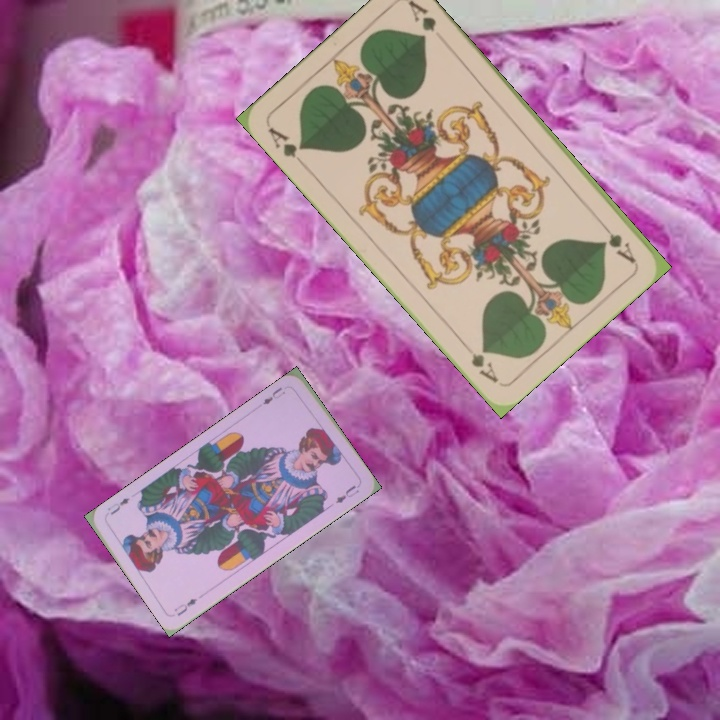EU: (258, 382, 292, 407), (170, 594, 200, 619)
GA: (264, 122, 309, 170), (595, 217, 639, 266)
